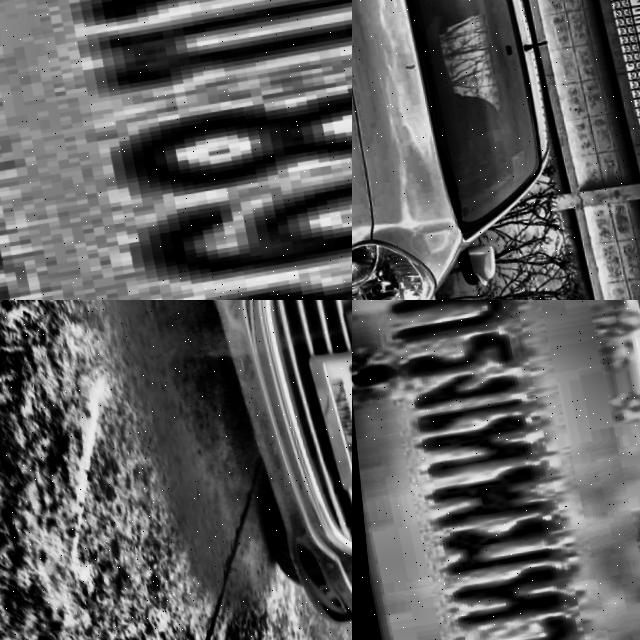license-plate: (0, 0, 352, 300), (352, 300, 640, 640), (307, 349, 352, 499)
